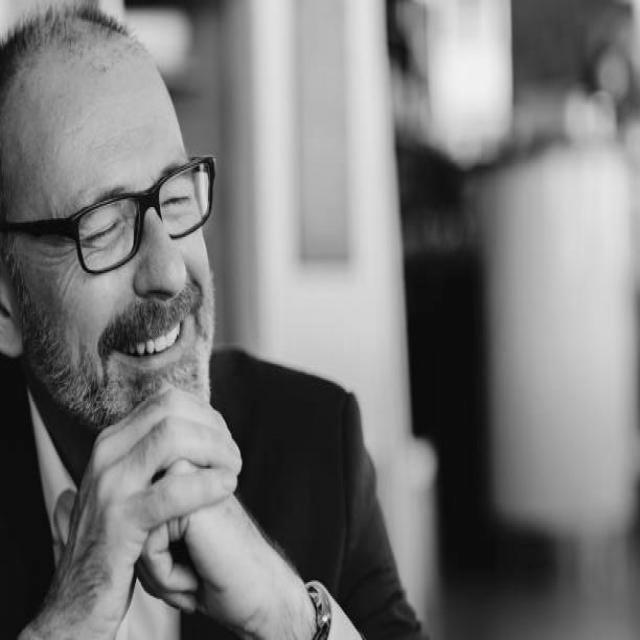real: (0, 0, 224, 430), (69, 161, 207, 252)
